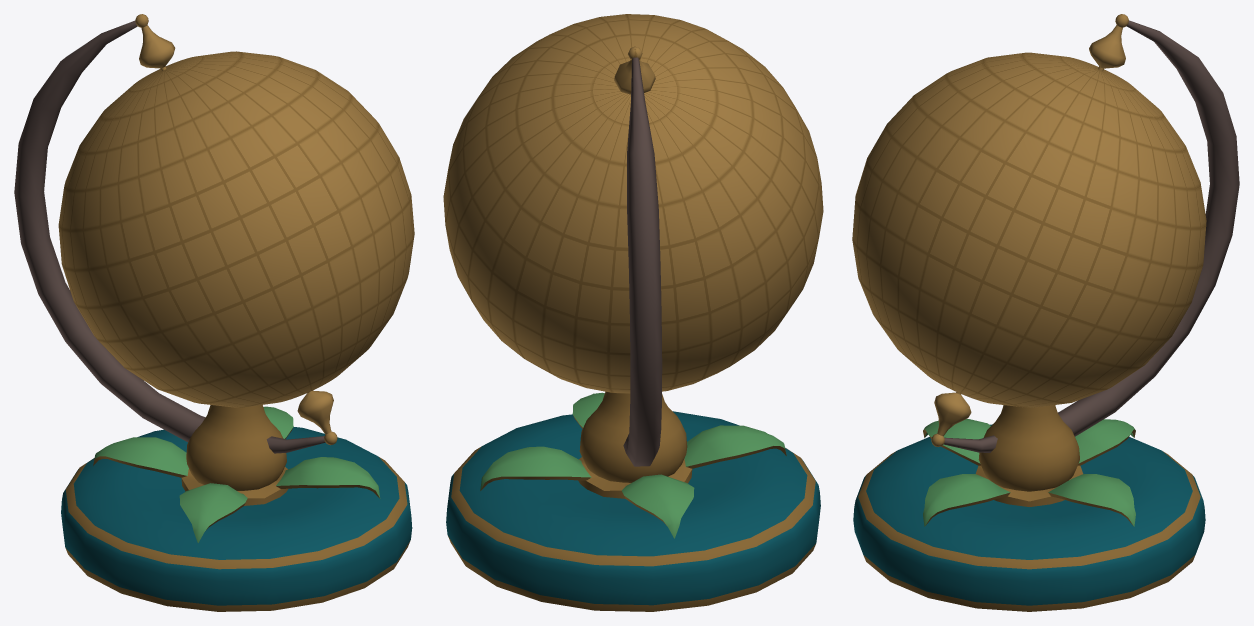
The model's file is FI_083_shiny_globe.glb.
3 renders of one model, left to right at view 1: azimuth 30°, elevation 25°; view 2: azimuth 150°, elevation 25°; view 3: azimuth 270°, elevation 25°, orthographic. The views are drawn at different scales.
Parts seen in each view (by area): view 1: shiny_globe; view 2: shiny_globe; view 3: shiny_globe.
Part boxes in pixels (<box>): shiny_globe: <box>14,14,414,611</box>; shiny_globe: <box>443,14,823,611</box>; shiny_globe: <box>852,14,1239,611</box>.
Bounding box in the file's own units: 0.7146 × 1.11 × 0.7803.
4 materials, 1 textured.
